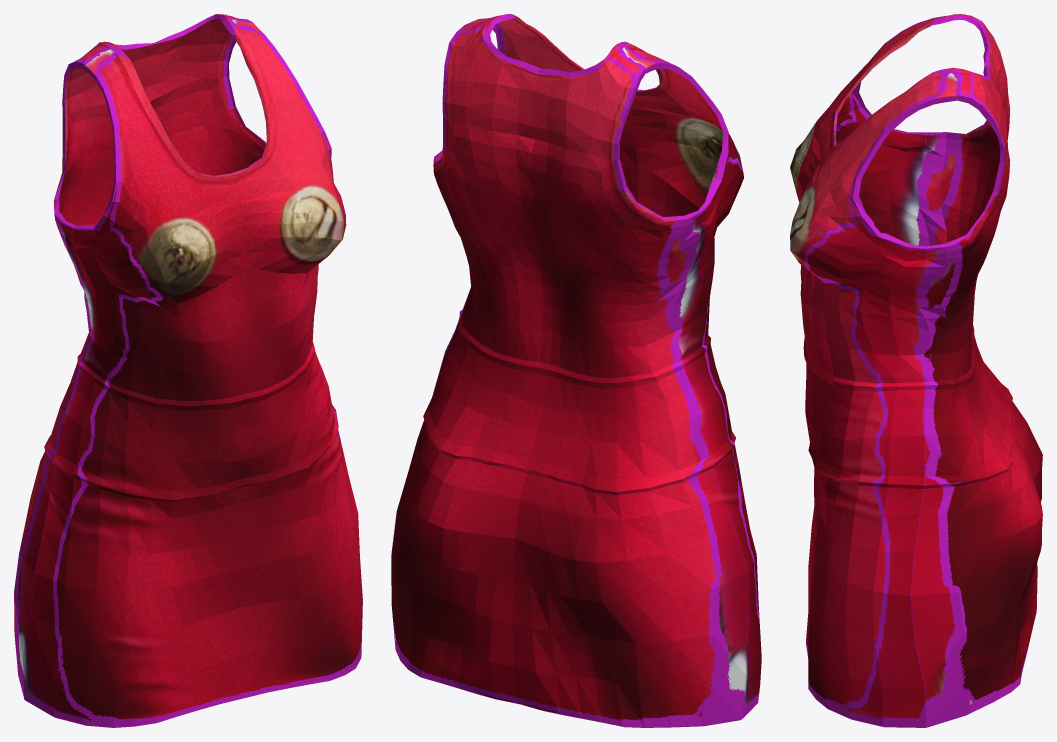
3 renders of one model, left to right at view 1: azimuth 30°, elevation 25°; view 2: azimuth 150°, elevation 25°; view 3: azimuth 270°, elevation 25°, orthographic. The views are drawn at different scales.
Bounding box in the file's own units: 0.4932 × 0.9059 × 0.3383.
Materials: 1 (1 with a texture image).
